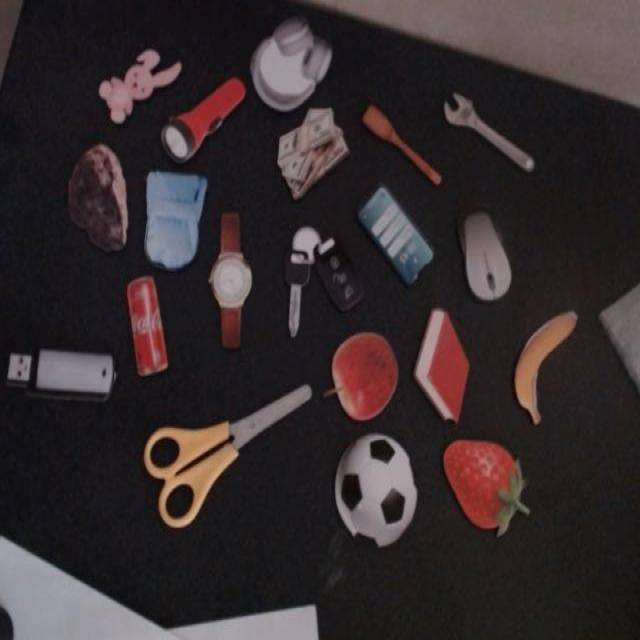Other Objects: (143, 383, 312, 528), (317, 413, 433, 566), (265, 207, 367, 338), (240, 0, 337, 129), (155, 57, 248, 170), (439, 85, 537, 190), (502, 292, 579, 425), (195, 209, 266, 351), (268, 95, 351, 199), (355, 182, 435, 288), (359, 101, 442, 197), (448, 204, 518, 312), (141, 169, 207, 273), (322, 331, 398, 421), (66, 143, 128, 252), (97, 47, 182, 124), (6, 345, 116, 400), (125, 275, 168, 376)
